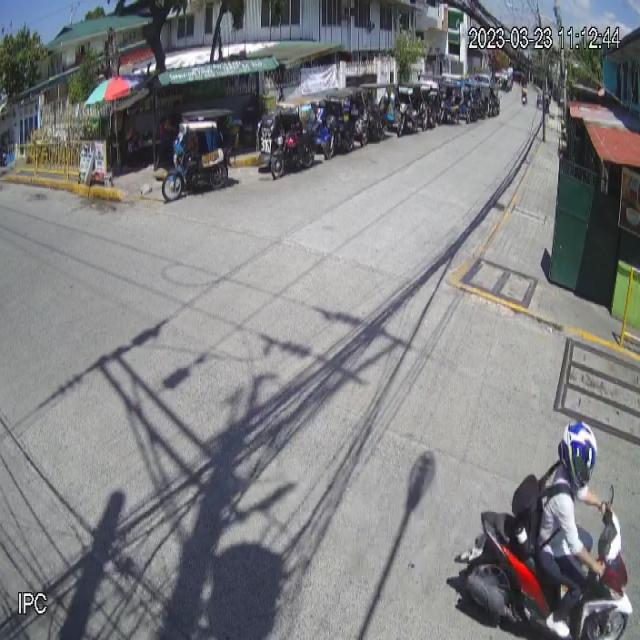Motorcycle: (454, 482, 634, 640)
